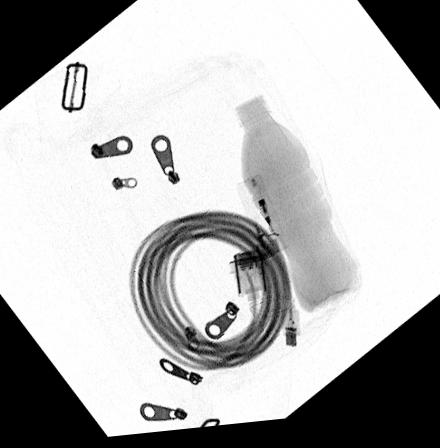Lighter: (237, 181, 288, 263)
